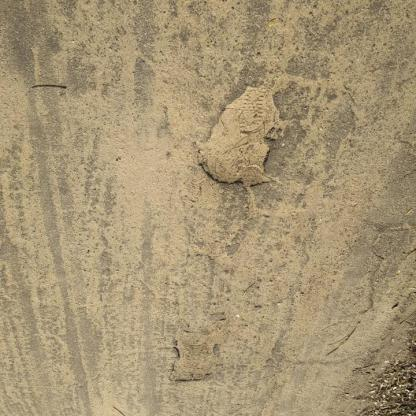pothole: (197, 84, 289, 194), (170, 330, 225, 386)
